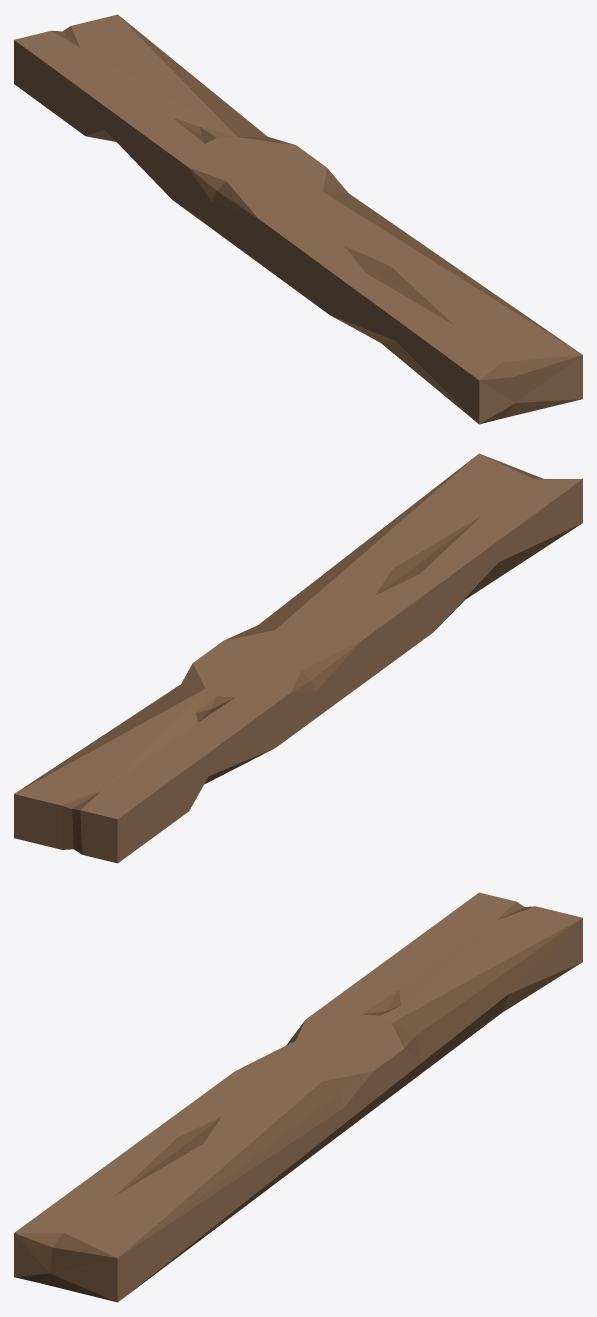
Rendered from mesh_plank_02.fbx.
3 renders of one model, top to bottom at view 1: azimuth 30°, elevation 25°; view 2: azimuth 150°, elevation 25°; view 3: azimuth 330°, elevation 25°, orthographic.
Visible parts, largest first — view 1: mesh_plank_02; view 2: mesh_plank_02; view 3: mesh_plank_02.
Boxes of the visible parts, x1=… form: mesh_plank_02: x1=14, y1=14, x2=582, y2=424; mesh_plank_02: x1=14, y1=453, x2=582, y2=863; mesh_plank_02: x1=14, y1=892, x2=582, y2=1302.
Bounding box in the file's own units: 0.1316 × 0.0626 × 1.02.
